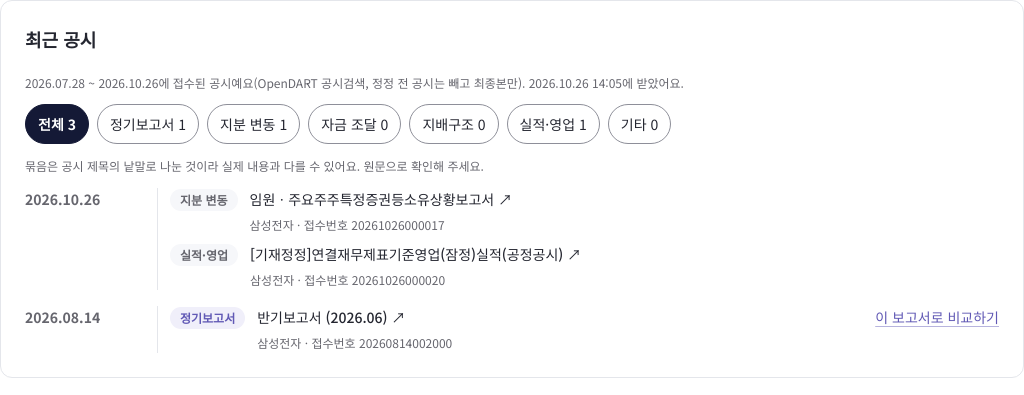
Test: 최근 공시 타임라인 › 묶음 칩을 누르면 그 묶음만 보이고 건수를 함께 보여 준다
Click the button named "지분 변동1" at {"x": 254, "y": 124}, box [207,104,300,144]
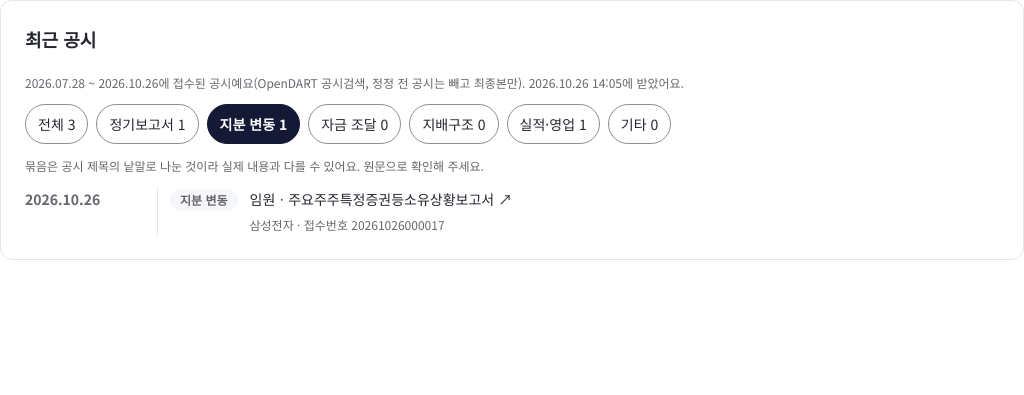
Now the number of links named "DART 원문" is 1, box [250,189,621,209]
Now the link "반기보고서" is gone
Click the button named "자금 조달0" at {"x": 355, "y": 124}, box [308,104,401,144]
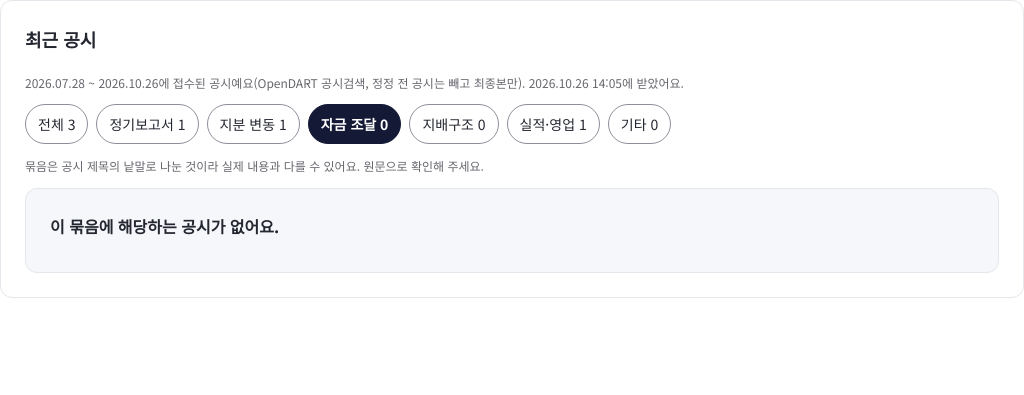
Now the text "이 묶음에 해당하는 공시가 없어요." is shown, box [50,214,279,238]
